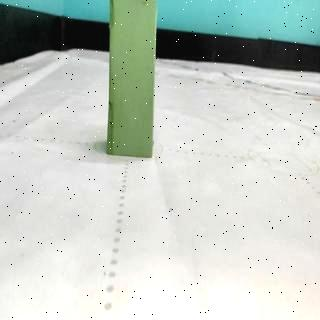greenbox: (108, 0, 158, 160)
